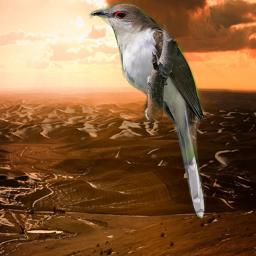Cuckoo: (88, 1, 206, 220)
